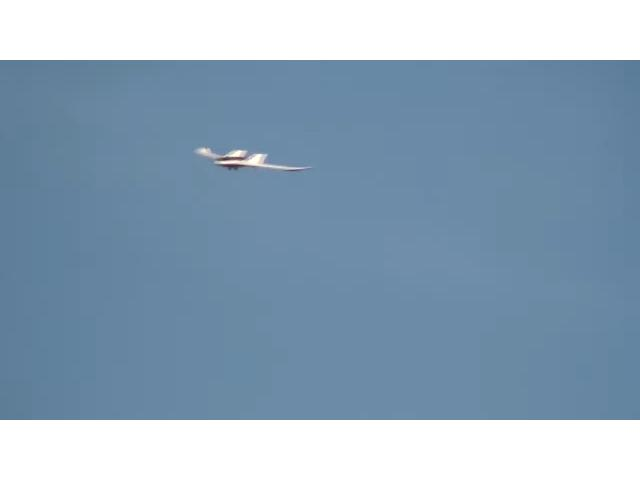Anti-Drone: (196, 148, 312, 172)
